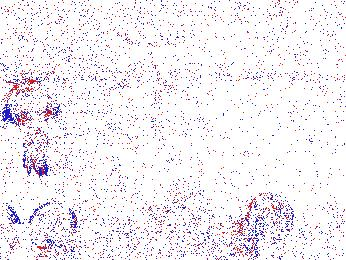flame jellyfish: (5, 81, 59, 176), (231, 192, 295, 246), (27, 201, 81, 256)
